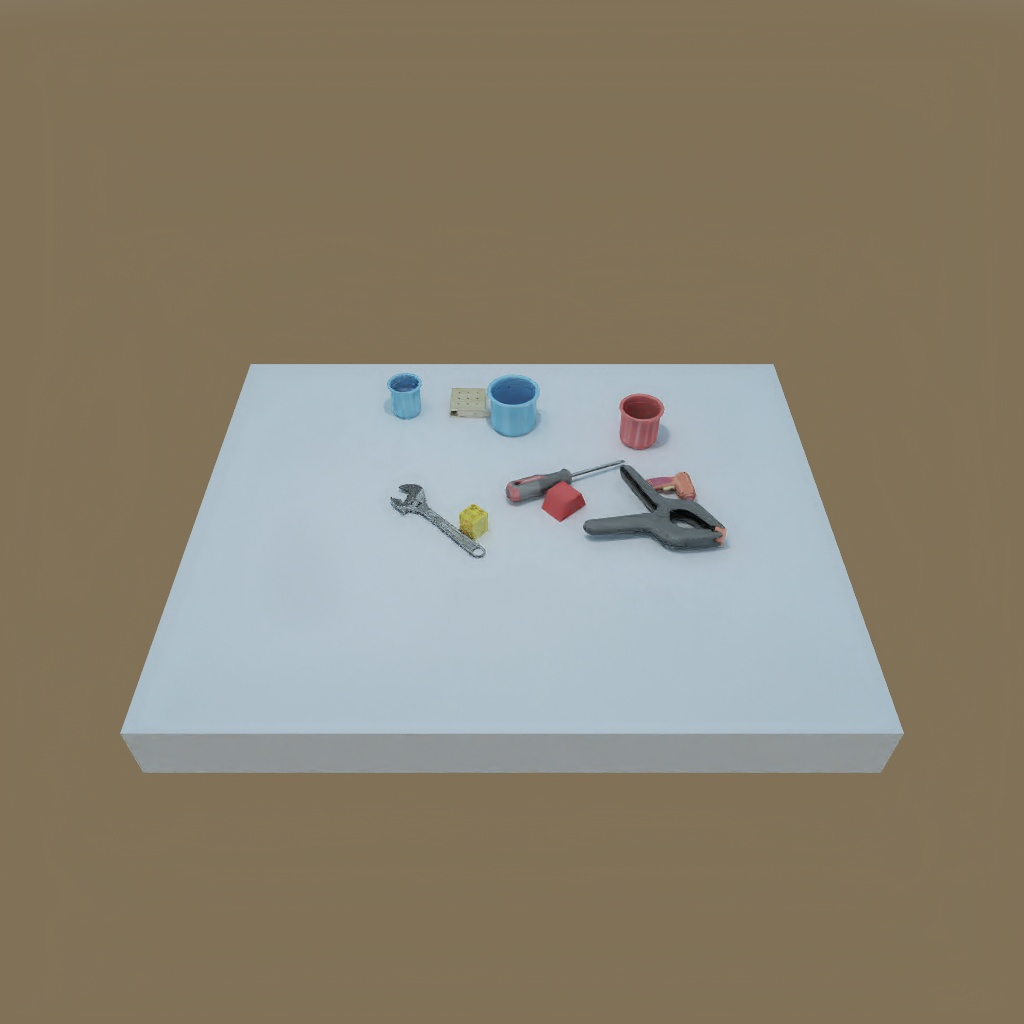nine_hole_peg_test: (447, 381, 486, 422)
